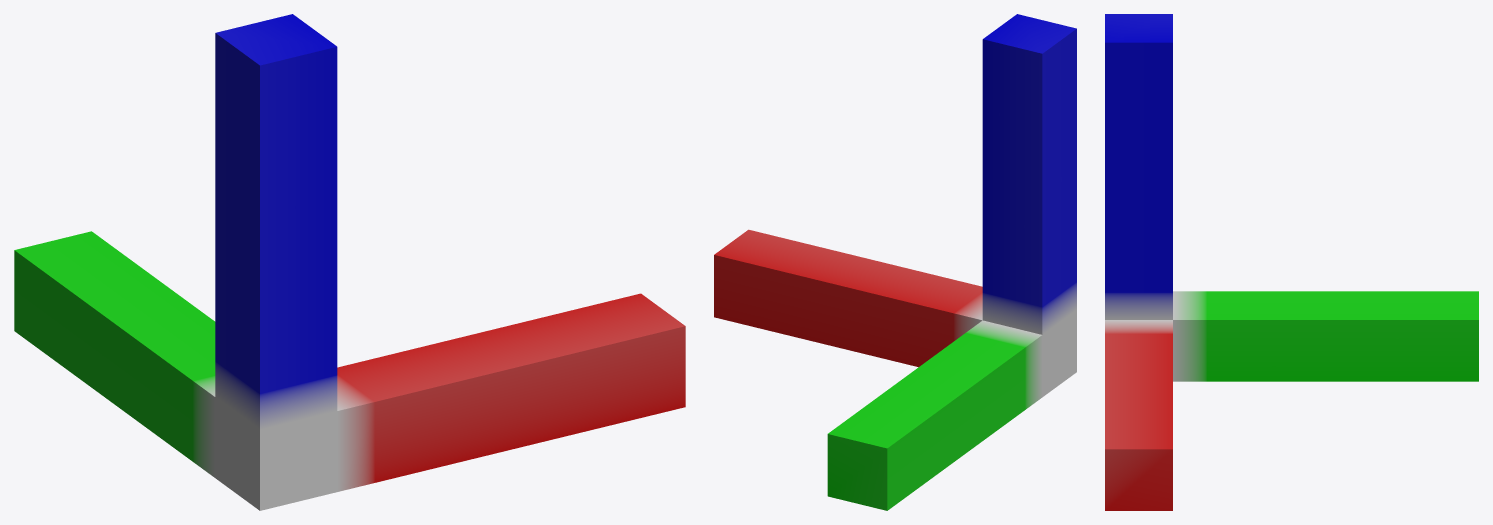
Rendered from axis.obj.
3 renders of one model, left to right at view 1: azimuth 30°, elevation 25°; view 2: azimuth 150°, elevation 25°; view 3: azimuth 270°, elevation 25°, orthographic. The views are drawn at different scales.
Visible parts, largest first — view 1: Cube; view 2: Cube; view 3: Cube.
Part boxes in pixels (bbox=[...]): Cube: bbox=[14, 14, 685, 510]; Cube: bbox=[714, 14, 1076, 510]; Cube: bbox=[1105, 14, 1478, 510].
Bounding box in the file's own units: 1.1 × 1.1 × 1.1.
